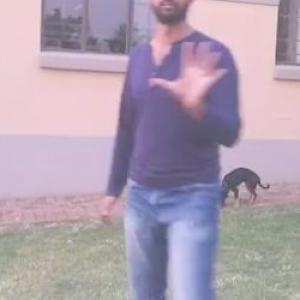follow_hand: (148, 35, 232, 119)
